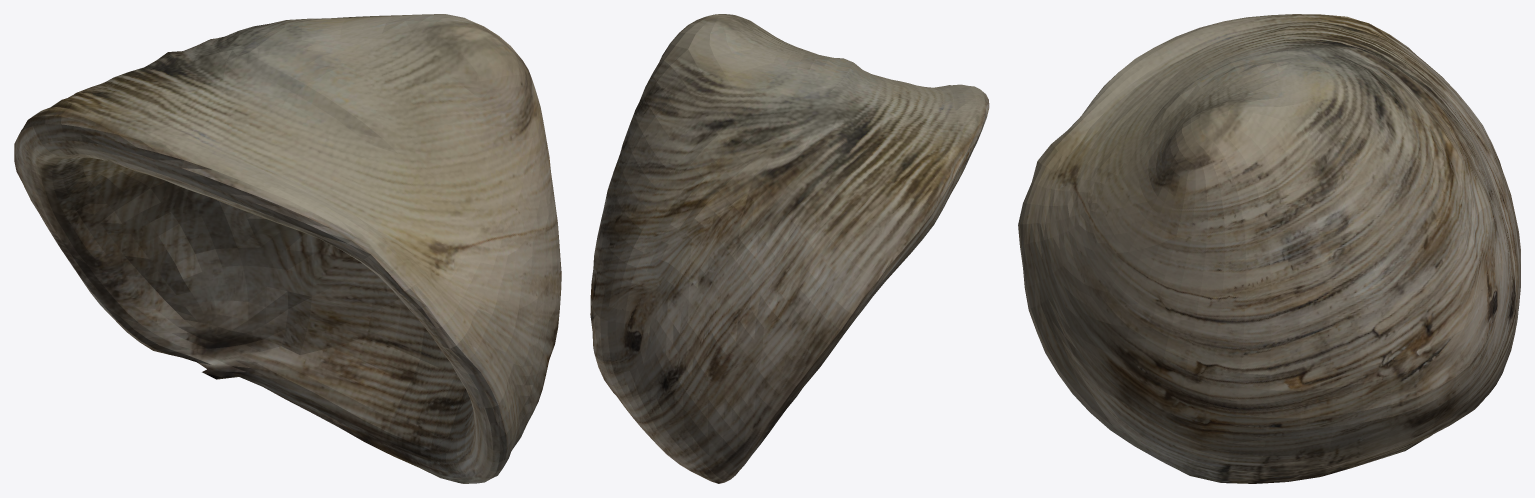
Rendered from sendai_clam_001.glb.
The picture shows the model from 3 angles, left to right: view 1: azimuth 30°, elevation 25°; view 2: azimuth 150°, elevation 25°; view 3: azimuth 270°, elevation 25°; orthographic projection. The views are drawn at different scales.
Parts seen in each view (by area): view 1: tripo_node_855c62ea-797a-409d-8026-a87ef76b5b30; view 2: tripo_node_855c62ea-797a-409d-8026-a87ef76b5b30; view 3: tripo_node_855c62ea-797a-409d-8026-a87ef76b5b30.
Part boxes in pixels (x1=…): tripo_node_855c62ea-797a-409d-8026-a87ef76b5b30: x1=14, y1=14, x2=561, y2=483; tripo_node_855c62ea-797a-409d-8026-a87ef76b5b30: x1=590, y1=14, x2=989, y2=483; tripo_node_855c62ea-797a-409d-8026-a87ef76b5b30: x1=1018, y1=14, x2=1520, y2=483.
Size of the model in its own units: 0.7846 by 0.7974 by 0.9452.
1 material, 1 textured.
